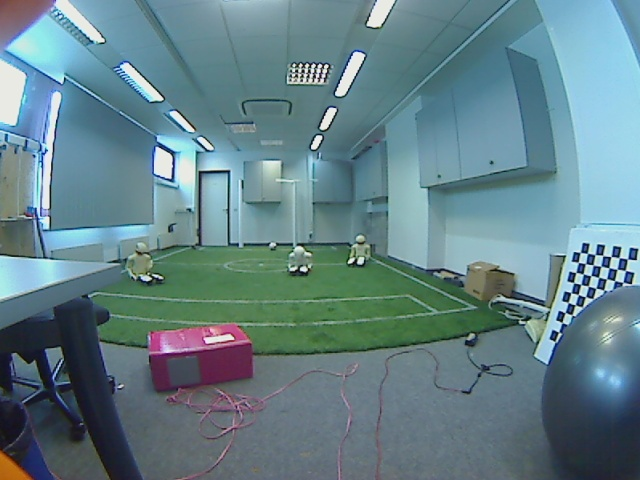ball: (263, 237, 281, 254)
robot: (122, 239, 166, 287), (343, 232, 373, 271), (284, 241, 312, 278)
